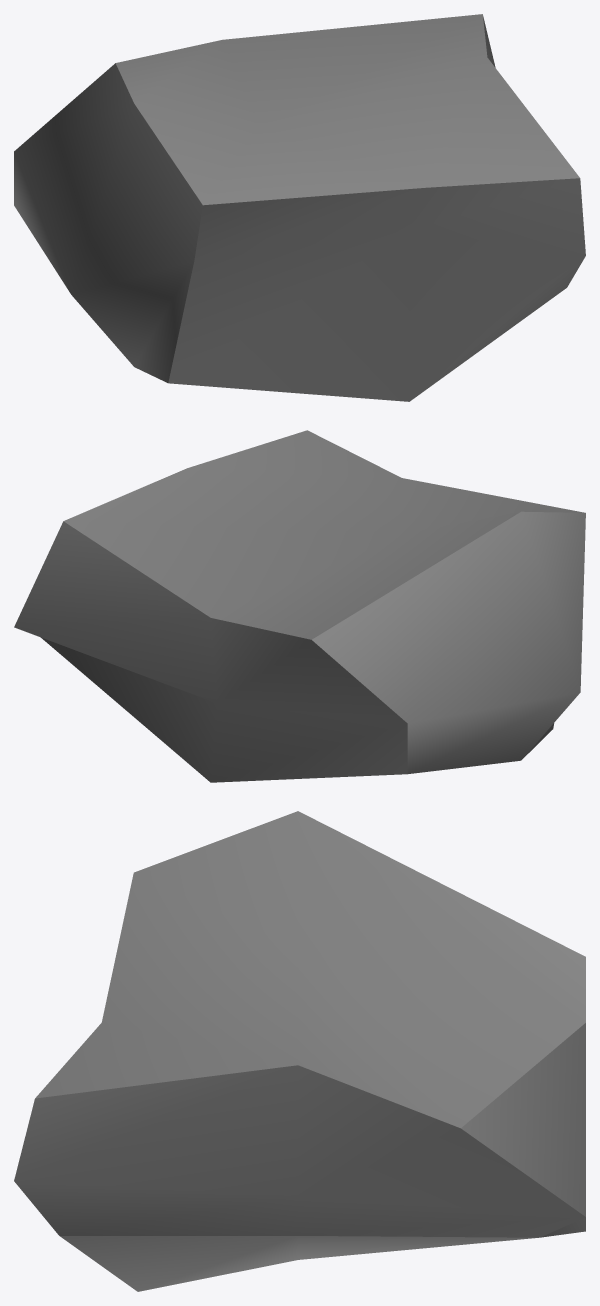
The model's file is Rubble 1.fbx.
3 renders of one model, top to bottom at view 1: azimuth 30°, elevation 25°; view 2: azimuth 150°, elevation 25°; view 3: azimuth 270°, elevation 25°, orthographic. The views are drawn at different scales.
Visible parts, largest first — view 1: Rubble 1; view 2: Rubble 1; view 3: Rubble 1.
Part boxes in pixels (left/top/right/bottom): Rubble 1: left=14, top=14, right=585, bottom=401; Rubble 1: left=14, top=430, right=585, bottom=782; Rubble 1: left=14, top=811, right=585, bottom=1291.
Size of the model in its own units: 11.51 by 6.89 by 9.94.
Materials: 1 (1 with a texture image).
